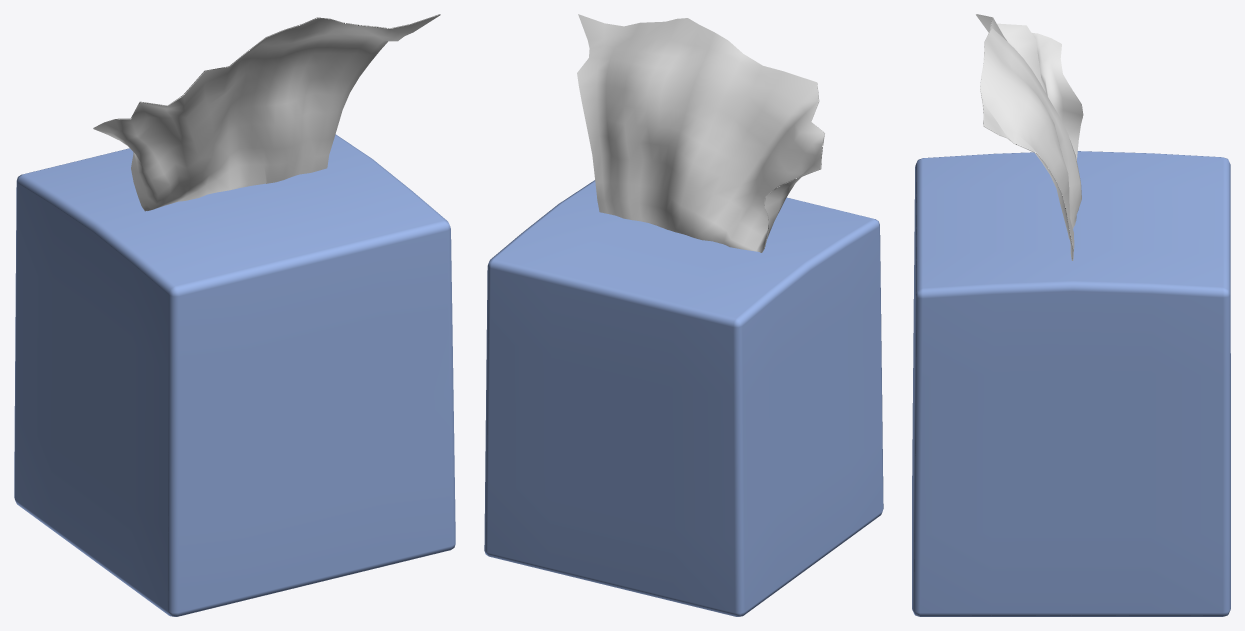
File: mouchoirs_t_.fbx
3 views of the same model, side by side, from view 1: azimuth 30°, elevation 25°; view 2: azimuth 150°, elevation 25°; view 3: azimuth 270°, elevation 25° (orthographic). The views are drawn at different scales.
Visible parts, largest first — view 1: paperBoxes; view 2: paperBoxes; view 3: paperBoxes.
Part boxes in pixels (x1,y1,x2,y2): paperBoxes: (14, 14, 455, 616); paperBoxes: (484, 14, 883, 616); paperBoxes: (912, 14, 1230, 616).
Bounding box in the file's own units: 22.54 × 37.23 × 20.35.
